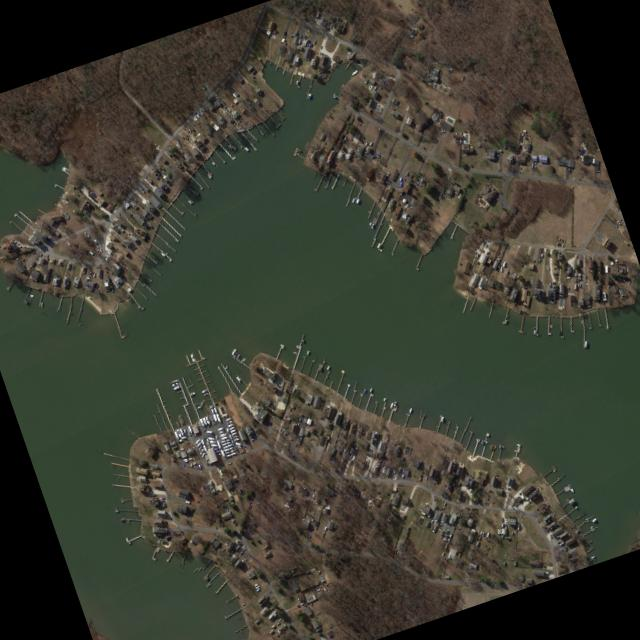ship: (174, 427, 181, 437), (566, 483, 573, 492), (172, 429, 178, 439), (198, 417, 204, 426), (177, 426, 183, 435), (188, 352, 194, 361), (214, 412, 219, 422), (350, 68, 357, 75), (229, 347, 236, 354), (203, 415, 209, 423), (170, 380, 178, 386), (217, 431, 226, 436), (215, 439, 220, 448), (186, 424, 191, 433), (201, 443, 206, 451), (201, 416, 206, 424), (211, 413, 216, 421), (193, 437, 199, 443), (224, 426, 229, 433), (219, 434, 226, 439), (197, 447, 202, 454), (172, 384, 179, 389), (205, 432, 213, 436), (221, 447, 229, 451), (212, 405, 216, 413), (388, 400, 392, 408), (396, 2, 401, 8), (217, 428, 223, 433), (224, 452, 230, 457), (224, 416, 230, 421), (195, 440, 200, 446), (196, 444, 201, 450), (232, 350, 237, 356), (205, 172, 210, 178), (243, 145, 248, 151), (294, 146, 300, 151), (407, 406, 411, 413), (205, 440, 209, 447), (199, 437, 203, 444), (219, 448, 223, 455), (215, 426, 222, 430), (204, 429, 211, 433), (234, 375, 239, 380), (199, 451, 204, 456), (254, 586, 259, 591), (13, 255, 18, 260), (226, 143, 231, 148), (225, 106, 230, 111), (330, 93, 335, 98), (60, 165, 65, 170), (106, 239, 111, 244), (227, 433, 231, 439), (208, 439, 214, 443), (223, 450, 229, 454), (220, 441, 226, 445), (225, 419, 231, 423), (226, 422, 232, 426), (298, 600, 304, 604), (369, 222, 373, 228), (354, 197, 358, 203), (200, 388, 206, 392), (232, 436, 238, 440), (501, 259, 504, 266), (398, 179, 401, 186), (209, 443, 216, 446), (206, 436, 213, 439), (413, 462, 416, 469), (392, 399, 395, 406), (589, 554, 594, 558), (557, 541, 562, 545), (397, 175, 401, 180), (204, 437, 208, 442), (228, 448, 233, 452), (226, 442, 231, 446), (221, 444, 226, 448), (182, 458, 187, 462), (181, 427, 185, 432), (186, 199, 191, 203), (315, 568, 319, 573), (228, 425, 233, 429), (229, 428, 234, 432), (291, 350, 296, 354), (231, 92, 235, 97), (234, 441, 239, 445), (65, 240, 69, 245), (103, 256, 107, 261), (315, 11, 318, 17), (497, 442, 500, 448), (439, 415, 442, 421), (229, 451, 235, 454), (210, 407, 213, 413), (175, 438, 181, 441), (179, 435, 185, 438), (157, 498, 163, 501), (230, 431, 236, 434), (307, 92, 310, 98), (188, 391, 194, 394), (230, 438, 233, 444), (588, 524, 592, 528), (228, 445, 232, 449), (224, 437, 228, 441), (254, 584, 258, 588), (319, 578, 323, 582), (367, 221, 371, 225), (202, 391, 206, 395), (478, 529, 481, 534), (480, 530, 483, 535), (236, 529, 239, 534), (368, 140, 371, 145), (328, 22, 331, 27), (296, 38, 299, 43), (503, 318, 506, 323), (213, 449, 218, 452), (214, 452, 219, 455), (212, 446, 217, 449), (219, 439, 224, 442), (197, 463, 200, 468), (213, 433, 216, 438), (182, 457, 187, 460), (185, 427, 188, 432), (383, 80, 386, 85), (156, 497, 161, 500), (39, 301, 42, 306), (35, 255, 38, 260), (310, 493, 313, 498), (322, 525, 325, 530), (279, 428, 282, 433), (368, 386, 371, 391), (305, 349, 308, 354), (294, 78, 297, 83), (350, 197, 353, 202), (440, 550, 443, 555), (160, 251, 163, 256), (498, 527, 500, 534), (499, 265, 501, 271), (374, 152, 378, 155), (374, 154, 378, 157), (515, 442, 519, 445), (538, 257, 541, 261), (225, 440, 229, 443), (181, 461, 184, 465), (187, 456, 191, 459), (318, 576, 322, 579), (284, 445, 288, 448), (247, 404, 250, 408), (210, 160, 213, 164), (232, 434, 236, 437), (375, 210, 378, 214), (384, 180, 388, 183), (342, 135, 345, 139), (423, 475, 426, 479), (235, 353, 238, 357), (236, 444, 240, 447), (63, 200, 67, 203), (82, 231, 85, 235), (93, 247, 97, 250), (502, 560, 504, 565), (615, 276, 620, 278), (440, 469, 442, 474), (537, 256, 539, 261), (532, 328, 534, 333), (401, 467, 403, 472), (613, 258, 615, 263), (305, 439, 307, 444), (382, 396, 384, 401), (238, 550, 241, 553), (584, 516, 587, 519), (194, 455, 197, 458), (191, 456, 194, 459), (615, 293, 618, 296), (240, 602, 243, 605), (295, 151, 298, 154), (241, 443, 244, 446), (123, 204, 126, 207), (92, 238, 95, 241), (107, 228, 110, 231), (96, 247, 99, 250), (539, 252, 541, 256), (486, 536, 488, 540), (489, 566, 491, 570), (565, 275, 569, 277), (622, 276, 624, 280), (385, 171, 387, 175), (538, 252, 540, 256), (499, 249, 501, 253), (189, 462, 191, 466), (226, 461, 230, 463), (317, 574, 321, 576), (14, 275, 18, 277), (113, 509, 117, 511), (393, 548, 395, 552), (39, 220, 41, 224), (196, 405, 200, 407), (91, 272, 93, 276), (98, 247, 100, 251), (495, 153, 498, 155), (500, 522, 502, 525), (183, 158, 185, 161), (465, 94, 467, 97), (444, 446, 446, 449), (178, 511, 181, 513), (350, 176, 352, 179), (238, 377, 241, 379), (236, 380, 239, 382), (615, 293, 617, 296), (613, 294, 615, 297), (296, 421, 298, 424), (264, 403, 266, 406), (174, 143, 176, 146), (288, 68, 290, 71), (395, 424, 397, 427), (431, 496, 433, 499), (103, 251, 106, 253), (94, 245, 96, 248), (546, 265, 547, 269), (566, 285, 567, 289), (505, 267, 507, 269), (314, 13, 315, 17), (379, 222, 381, 224), (105, 251, 107, 253), (621, 276, 622, 279), (388, 171, 389, 174), (429, 442, 430, 445), (253, 502, 254, 505), (404, 475, 405, 478), (627, 281, 628, 282), (98, 250, 98, 252)
small-vehicle: (154, 145, 158, 150), (96, 203, 100, 208), (454, 139, 458, 143), (233, 521, 237, 525), (49, 236, 53, 240), (221, 103, 225, 107), (216, 97, 220, 101), (437, 523, 441, 527), (436, 525, 440, 529), (241, 439, 245, 443), (193, 114, 197, 118), (219, 476, 222, 481), (446, 536, 449, 541), (441, 128, 444, 132), (496, 263, 499, 267), (379, 68, 383, 71), (473, 250, 476, 254), (444, 527, 448, 530), (446, 523, 450, 526), (458, 513, 461, 517), (318, 44, 321, 48), (564, 545, 567, 549), (21, 251, 24, 255), (228, 473, 231, 477), (325, 588, 328, 592), (230, 518, 233, 522), (347, 455, 350, 459), (321, 530, 324, 534), (398, 506, 402, 509), (325, 134, 328, 138), (439, 519, 442, 523), (203, 104, 207, 107), (179, 136, 182, 140), (221, 100, 224, 104), (192, 432, 196, 435), (186, 432, 190, 435), (199, 108, 202, 112), (180, 135, 183, 139), (176, 137, 179, 141), (200, 85, 203, 89), (138, 186, 141, 190), (133, 197, 136, 201), (46, 225, 49, 229), (227, 501, 229, 506), (393, 485, 395, 490), (595, 169, 598, 172), (548, 535, 551, 538), (547, 532, 550, 535), (557, 556, 560, 559), (409, 205, 412, 208), (387, 179, 390, 182), (363, 150, 366, 153), (375, 102, 378, 105), (415, 180, 418, 183), (493, 486, 496, 489), (215, 488, 218, 491), (318, 584, 321, 587), (277, 617, 280, 620), (233, 520, 236, 523), (232, 518, 235, 521), (20, 257, 23, 260), (249, 437, 252, 440), (329, 456, 332, 459), (400, 504, 403, 507), (438, 521, 441, 524), (214, 95, 217, 98), (108, 238, 111, 241), (110, 267, 113, 270), (121, 205, 124, 208), (107, 248, 110, 251), (157, 145, 160, 148), (46, 235, 49, 238), (132, 199, 135, 202), (88, 218, 91, 221), (52, 242, 55, 245), (42, 239, 45, 242), (458, 138, 460, 142), (530, 163, 532, 167), (483, 243, 485, 247), (383, 162, 385, 166), (369, 154, 371, 158), (446, 174, 448, 178), (426, 68, 428, 72), (377, 86, 381, 88), (459, 510, 461, 514), (443, 482, 445, 486), (475, 251, 477, 255), (451, 481, 453, 485), (469, 491, 471, 495), (441, 505, 443, 509), (110, 288, 112, 292), (183, 498, 187, 500), (392, 469, 394, 473), (148, 490, 152, 492), (390, 470, 392, 474), (231, 513, 233, 517), (201, 484, 203, 488), (216, 501, 218, 505), (16, 244, 20, 246), (12, 240, 16, 242), (400, 473, 402, 477), (344, 137, 346, 141), (318, 15, 320, 19), (201, 436, 203, 440), (24, 245, 27, 247), (533, 160, 535, 163), (426, 73, 428, 76), (440, 128, 442, 131), (541, 566, 544, 568), (509, 557, 512, 559), (464, 573, 466, 576), (557, 249, 559, 252), (555, 241, 557, 244), (117, 212, 119, 215), (620, 219, 622, 222), (560, 242, 562, 245), (526, 499, 529, 501), (283, 34, 285, 37), (436, 125, 438, 128), (362, 140, 364, 143), (387, 72, 389, 75), (329, 25, 331, 28), (307, 43, 309, 46), (505, 485, 507, 488), (467, 510, 469, 513), (439, 506, 441, 509), (466, 513, 468, 516), (483, 479, 485, 482), (442, 501, 444, 504), (480, 262, 482, 265), (306, 28, 308, 31), (317, 50, 319, 53), (21, 245, 24, 247), (153, 163, 155, 166), (335, 482, 337, 485), (288, 438, 291, 440), (301, 606, 304, 608), (264, 602, 267, 604), (294, 602, 297, 604), (186, 545, 189, 547), (217, 501, 219, 504), (38, 252, 40, 255), (281, 417, 283, 420), (306, 423, 308, 426), (388, 497, 390, 500), (389, 513, 392, 515), (248, 433, 251, 435), (287, 407, 289, 410), (444, 557, 446, 560), (395, 550, 397, 553), (89, 271, 91, 274), (109, 270, 111, 273), (148, 467, 151, 469), (246, 82, 248, 85), (108, 225, 111, 227), (567, 167, 568, 171), (541, 565, 545, 566), (307, 534, 309, 536), (615, 258, 617, 260), (512, 154, 513, 158), (514, 155, 515, 159), (361, 139, 362, 143), (505, 518, 507, 520), (505, 520, 507, 522), (191, 506, 192, 510), (202, 426, 203, 430), (182, 495, 183, 498), (165, 513, 168, 514), (214, 525, 215, 528), (88, 270, 89, 273), (578, 282, 579, 284)
